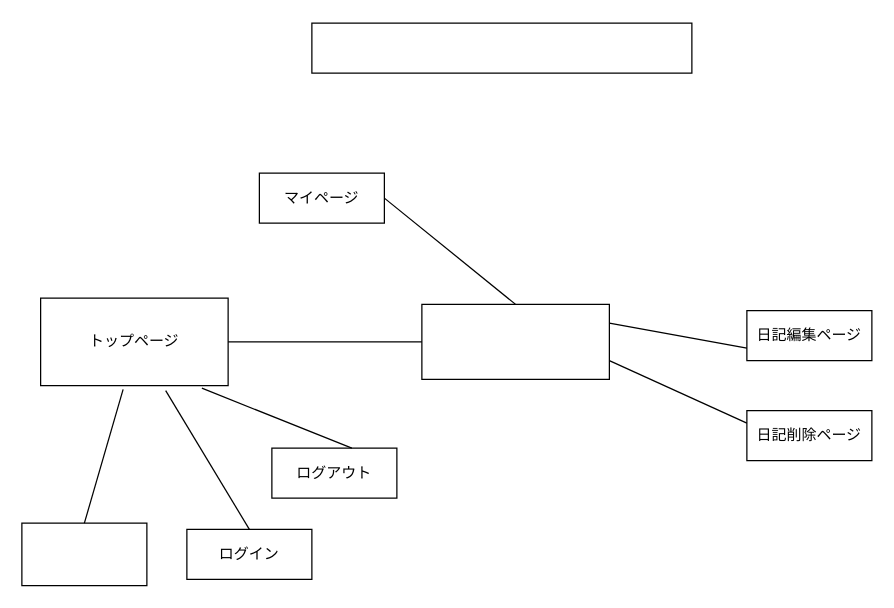
This 894x608 diagram has some shape labels left out. Here are the shapes that lost their labels. From the top down, the box of each, then its label:
(311, 22, 692, 73): 画面遷移図
(421, 303, 609, 379): 日記投稿フォーム
(21, 522, 147, 586): 新規登録
